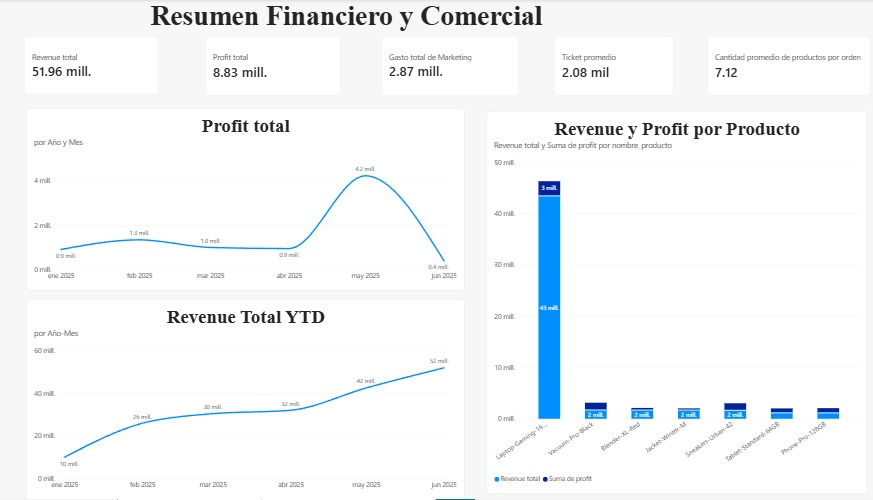

The page's visual inventory and layout, read from the dashboard file:
{"tool":"powerbi","page":{"name":"Overview Ejecutivo","canvas":[1920,1080],"ordinal":0},"visuals":[{"type":"cardVisual","fields":{"Data":["orders_clean.revenue total"]},"box":[55.6,96.3,287,125.9],"z":0},{"type":"cardVisual","fields":{"Data":["orders_clean.profit total"]},"box":[440,95.6,288.2,127.5],"z":1000},{"type":"cardVisual","fields":{"Data":["catalog_clean.gasto total de marketing"]},"box":[815.6,95.6,293.3,126.7],"z":2000},{"type":"cardVisual","fields":{"Data":["catalog_clean.ticket promedio"]},"box":[1182.2,95.6,255.2,127.6],"z":3000},{"type":"cardVisual","fields":{"Data":["catalog_clean.cantidad promedio de productos por orden"]},"box":[1508.9,95.6,348.3,127.6],"z":4000},{"type":"lineChart","fields":{"Category":["dim_fecha.Año-Mes"],"Y":["catalog_clean.Revenue Total YTD"]},"box":[60,655.6,933.3,426.7],"z":5000},{"type":"lineChart","fields":{"Y":["orders_clean.Profit total"],"Category":["dim_fecha.Año-Mes.Variación.Jerarquía de fechas.Año","dim_fecha.Año-Mes.Variación.Jerarquía de fechas.Mes"]},"box":[60,248.9,933.3,388.9],"z":6000},{"type":"textbox","box":[104.4,20,1244.4,104.4],"z":7000},{"type":"columnChart","title":"Revenue y Profit por Producto","fields":{"Y":["orders_clean.Revenue total","Sum(orders_clean.profit)"],"Category":["orders_clean.nombre_producto"]},"box":[1038.9,255.6,811.1,814.8],"z":8000}]}

Visuals, with their boxes in screenshot pixels (x1, y1, x2, y2), scaled from the page's 1920x1080 canvas onto the 873x500 screenshot:
cardVisual - orders_clean.revenue total: box=[25, 45, 156, 103]
cardVisual - orders_clean.profit total: box=[200, 44, 331, 103]
cardVisual - catalog_clean.gasto total de marketing: box=[371, 44, 504, 103]
cardVisual - catalog_clean.ticket promedio: box=[538, 44, 654, 103]
cardVisual - catalog_clean.cantidad promedio de productos por orden: box=[686, 44, 844, 103]
lineChart - dim_fecha.Año-Mes x catalog_clean.Revenue Total YTD: box=[27, 304, 452, 499]
lineChart - orders_clean.Profit total x dim_fecha.Año-Mes.Variación.Jerarquía de fechas.Año: box=[27, 115, 452, 295]
textbox: box=[47, 9, 613, 58]
"Revenue y Profit por Producto" columnChart: box=[472, 118, 841, 496]
